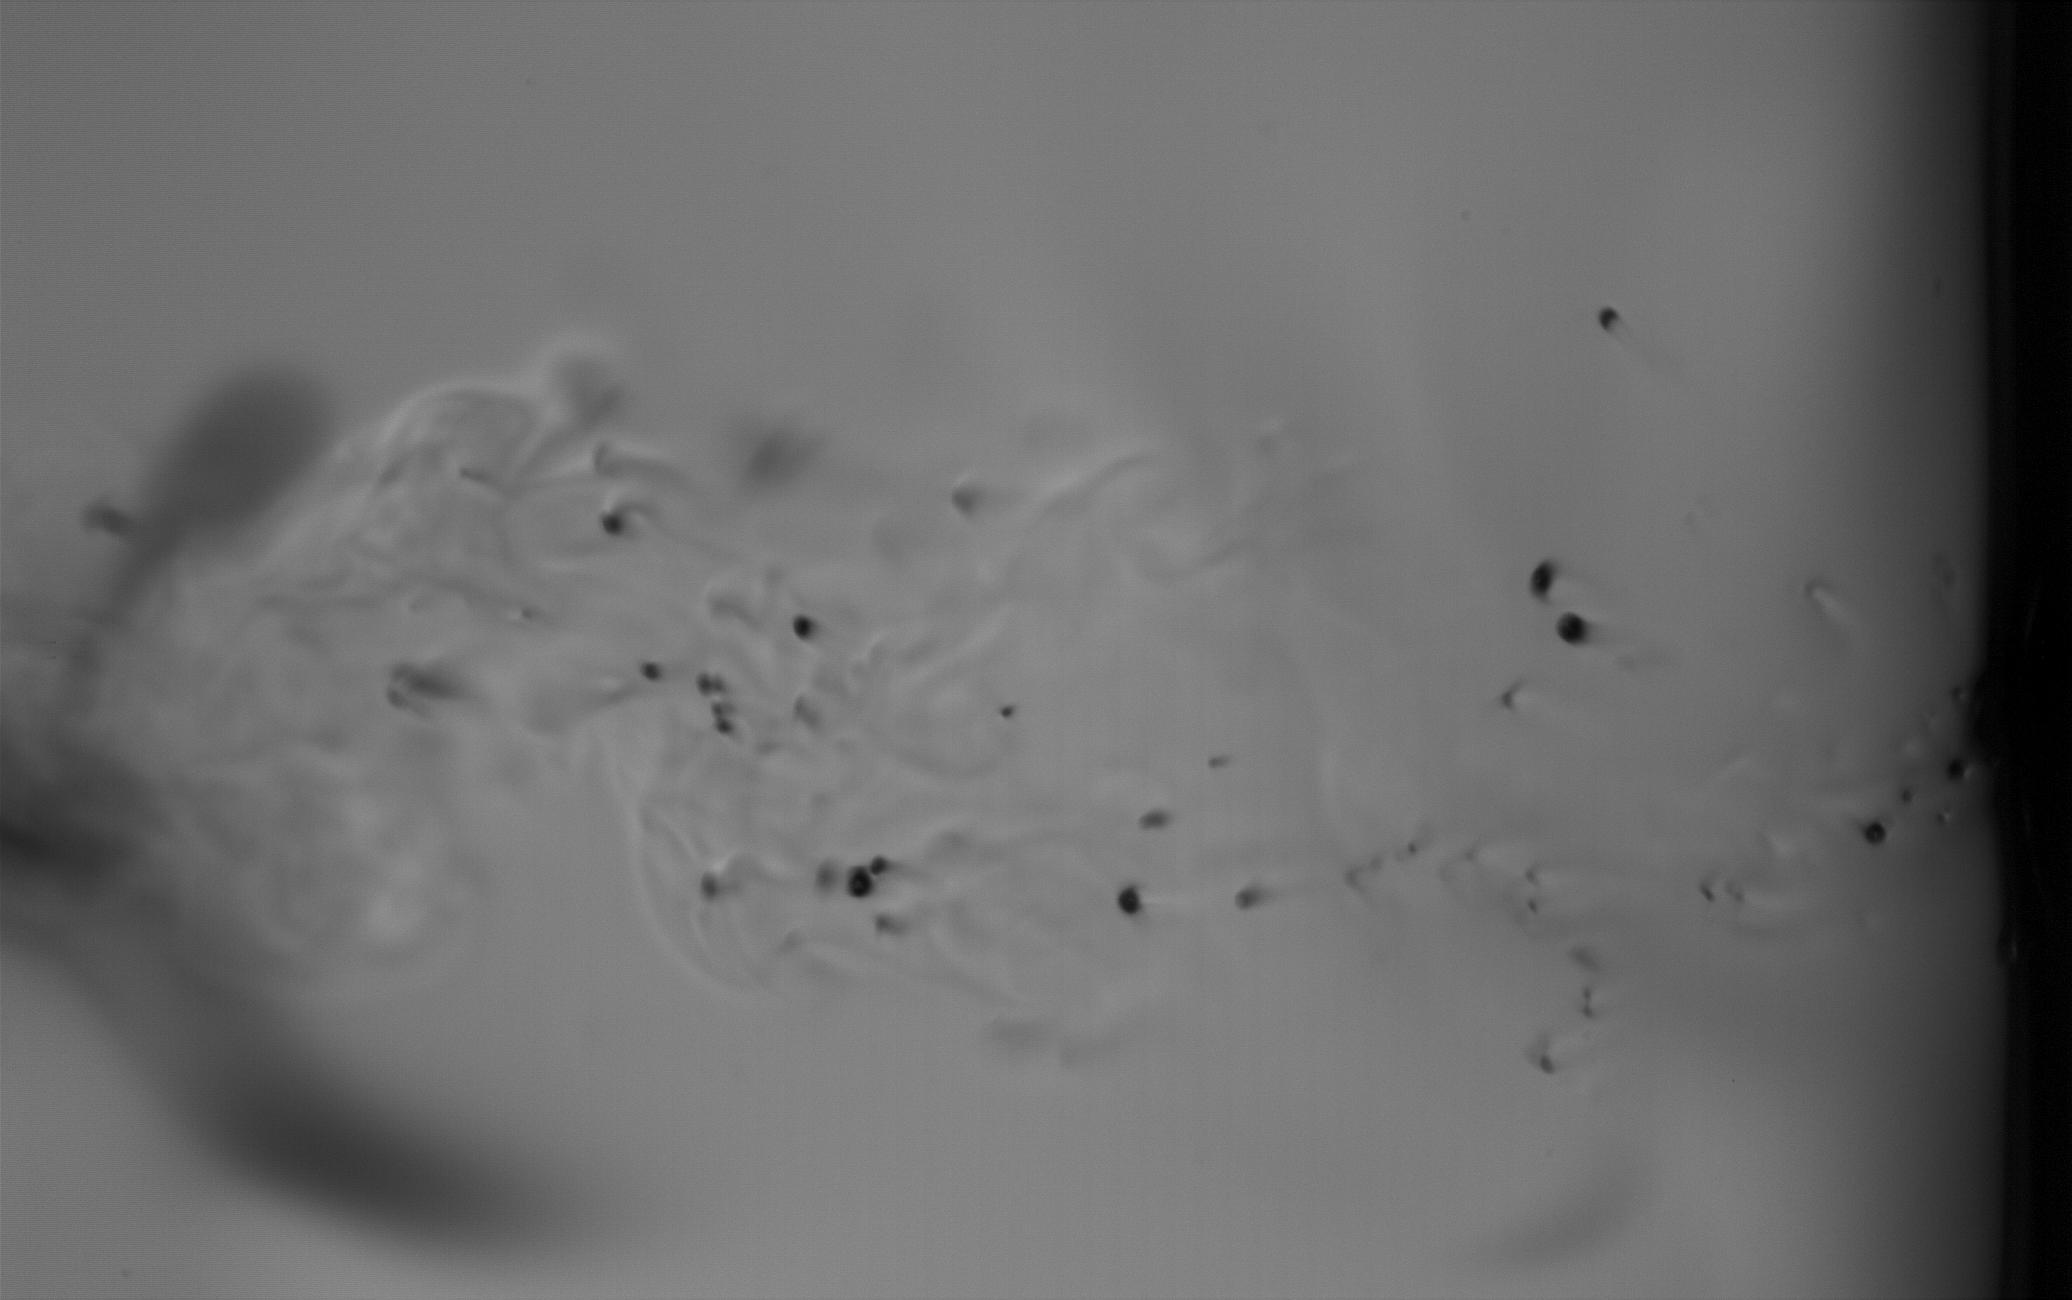Blurry: (871, 909, 910, 938), (711, 699, 737, 716)
ClassicalEvaporation: (1526, 559, 1558, 602), (1555, 610, 1588, 650), (841, 869, 873, 900), (597, 514, 624, 548), (790, 607, 817, 641), (1118, 885, 1145, 920), (1945, 756, 1972, 789), (1861, 818, 1888, 848), (862, 846, 889, 876), (1596, 303, 1617, 332), (711, 714, 737, 738), (1237, 885, 1261, 911), (1202, 744, 1226, 768), (994, 699, 1018, 723), (639, 660, 663, 684), (693, 674, 716, 698)
TransitionalMixing: (816, 863, 841, 908), (1133, 807, 1177, 830), (699, 861, 722, 905), (1523, 860, 1553, 890), (1538, 1056, 1560, 1078), (1521, 899, 1541, 924), (1701, 884, 1719, 908), (1403, 836, 1419, 854)
